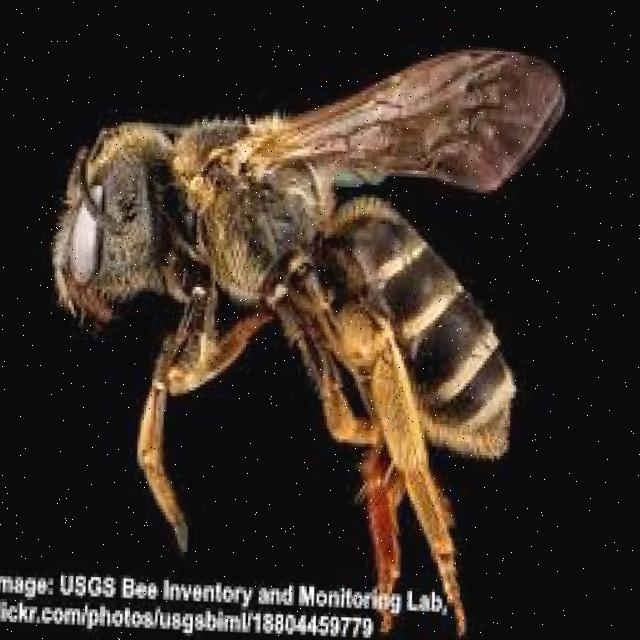Meliponula: (26, 20, 563, 557)
